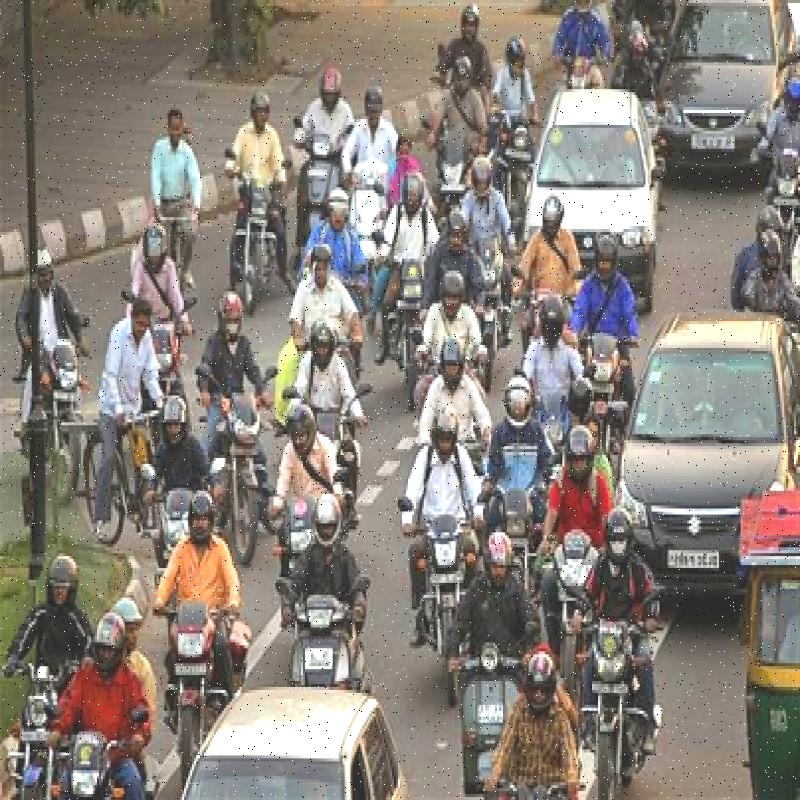bike: (577, 603, 648, 800), (425, 493, 476, 672), (163, 583, 218, 741), (227, 177, 285, 312)
car: (600, 294, 800, 607), (176, 657, 412, 800)
